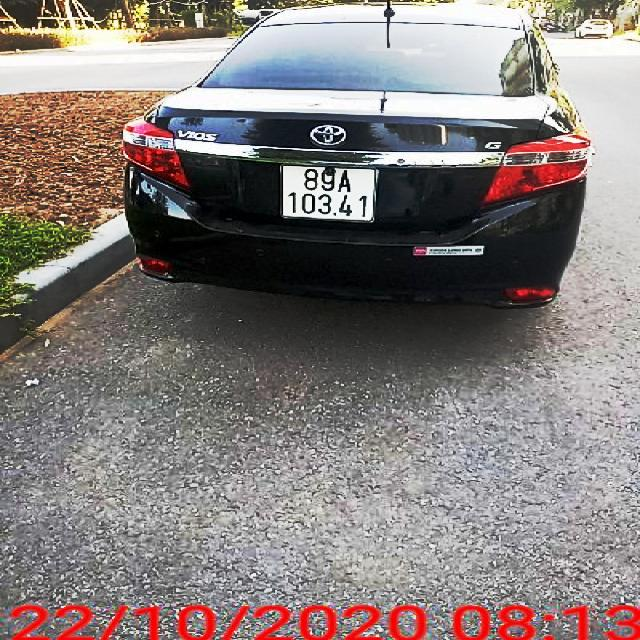license_plate: (281, 167, 377, 223)
